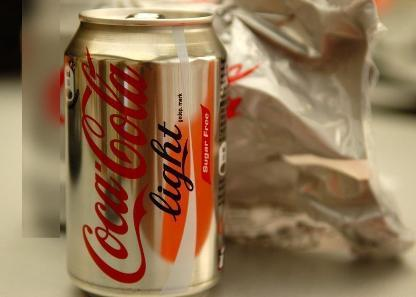Can: (64, 7, 228, 296)
